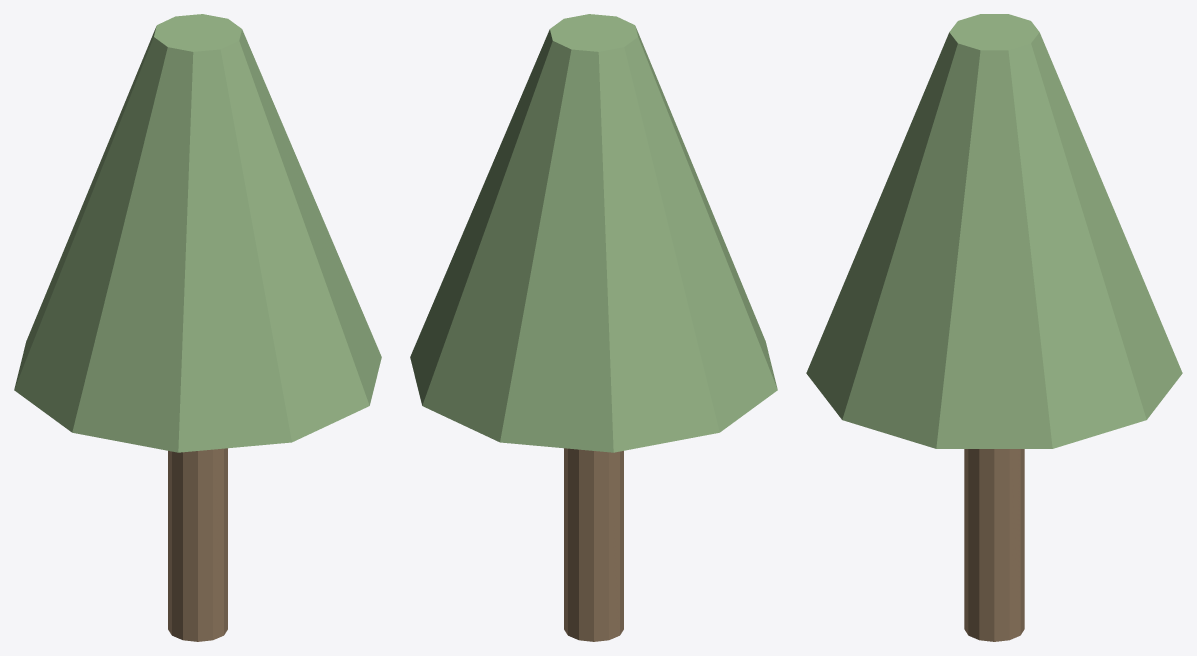
File: prop_tree_round.glb
The picture shows the model from 3 angles, left to right: view 1: azimuth 30°, elevation 25°; view 2: azimuth 150°, elevation 25°; view 3: azimuth 270°, elevation 25°; orthographic projection.
Parts seen in each view (by area): view 1: prop_tree_round-col; view 2: prop_tree_round-col; view 3: prop_tree_round-col.
Boxes of the visible parts, x1,y1,x2,y2 form: prop_tree_round-col: (14,14,381,641); prop_tree_round-col: (410,14,777,641); prop_tree_round-col: (806,14,1182,641).
Bounding box in the file's own units: 1.9 × 3.5 × 2.
